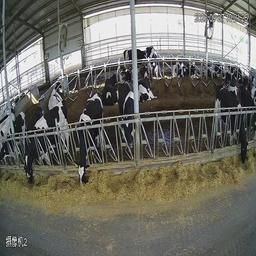cow: (25, 100, 71, 197), (72, 88, 109, 200), (215, 80, 254, 174), (115, 77, 150, 157), (44, 72, 70, 117), (218, 49, 242, 94), (138, 58, 159, 109), (8, 93, 28, 141), (171, 50, 192, 85), (125, 35, 151, 62), (102, 65, 118, 108), (195, 51, 214, 87)
